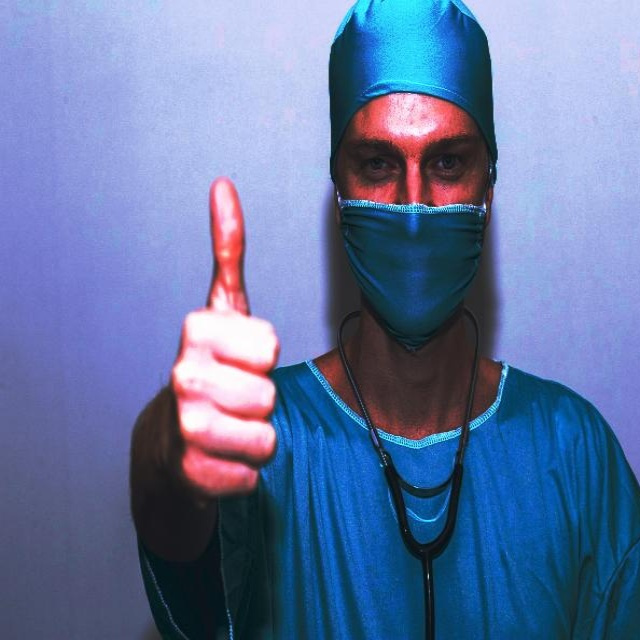thumbs_up: (162, 171, 286, 493)
